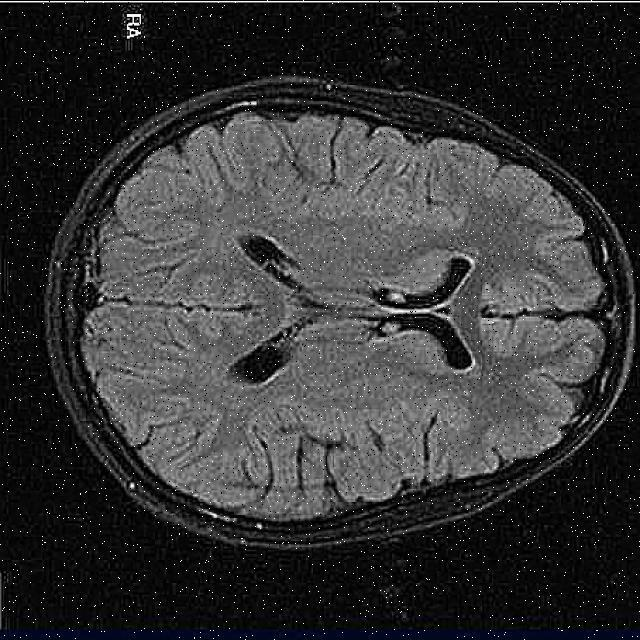No_Tumor: (45, 77, 635, 549)
